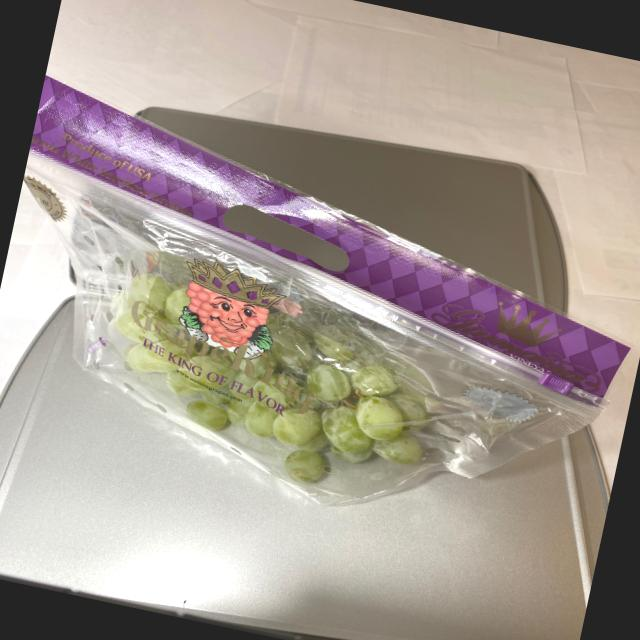grapes: (74, 271, 482, 504)
